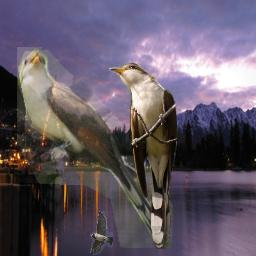Cuckoo: (17, 47, 173, 248), (109, 63, 178, 249)
Swallow: (90, 211, 113, 255)
